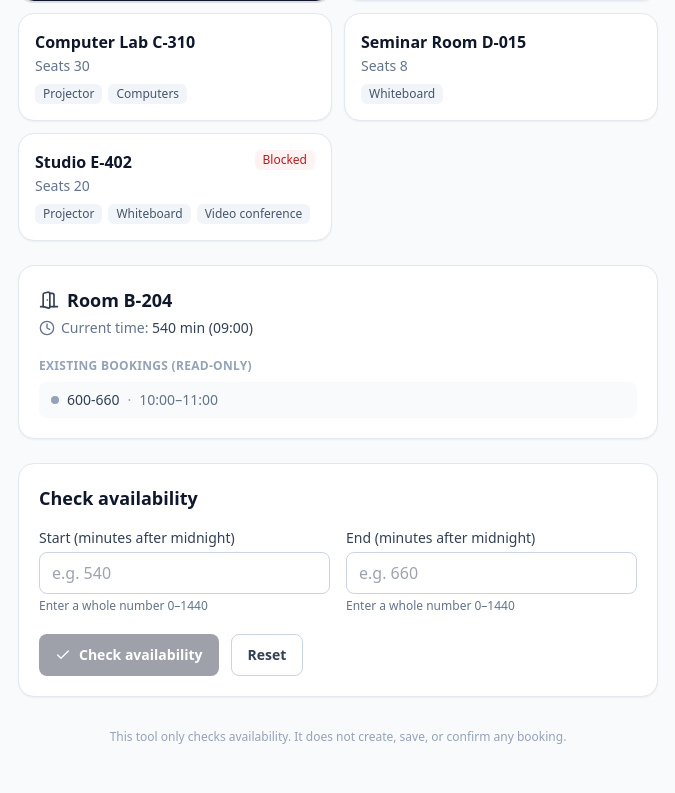
Test case: Assignment 3 behavior in the multi-room UI › 630-690 is UNAVAILABLE with the overlap reason
(page scrolled)
Type "630" into the number field labelled "Start (minutes after midnight)" at (184, 573), box [39, 552, 330, 594]
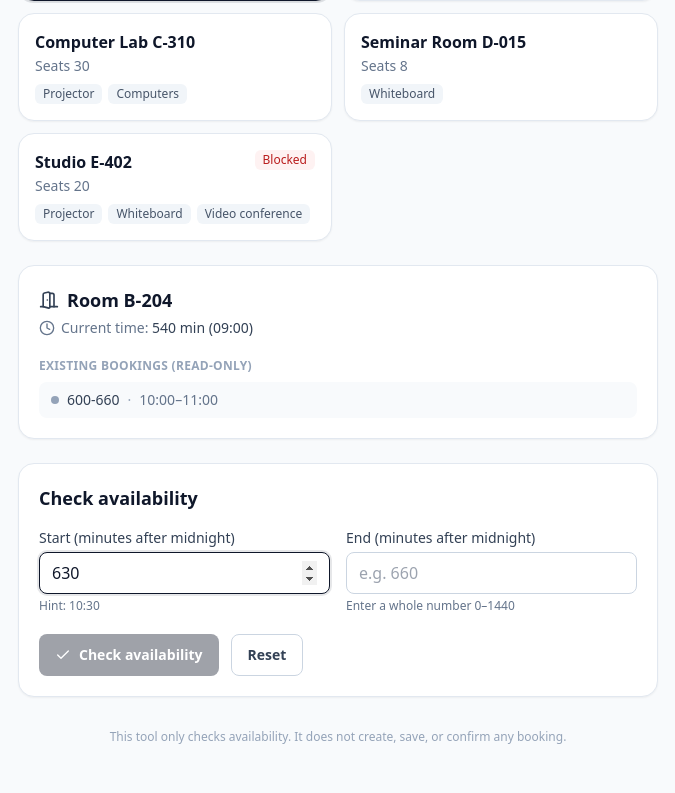
Type "690" into the number field labelled "End (minutes after midnight)" at (492, 573), box [346, 552, 637, 594]
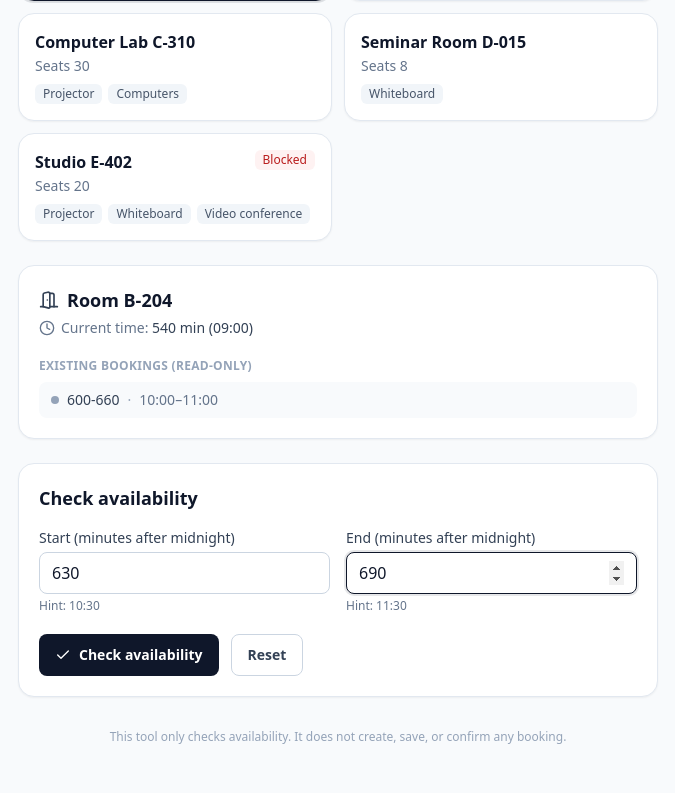
Click the button "Check availability" at (129, 655), box [39, 634, 218, 676]
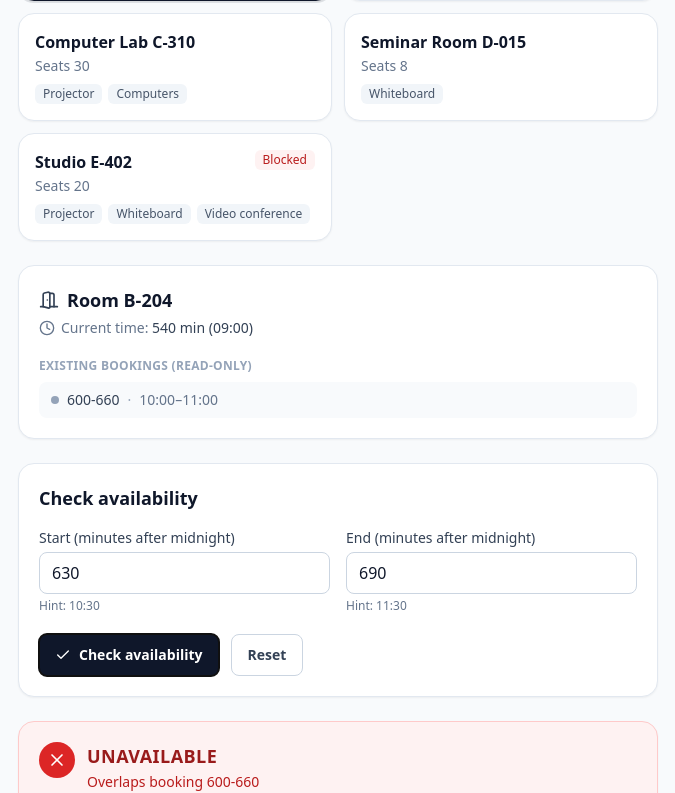
Expected: the text "UNAVAILABLE" is shown, [87, 744, 217, 768]
Expected: the text "Overlaps booking 600-660" is shown, [87, 772, 259, 792]
